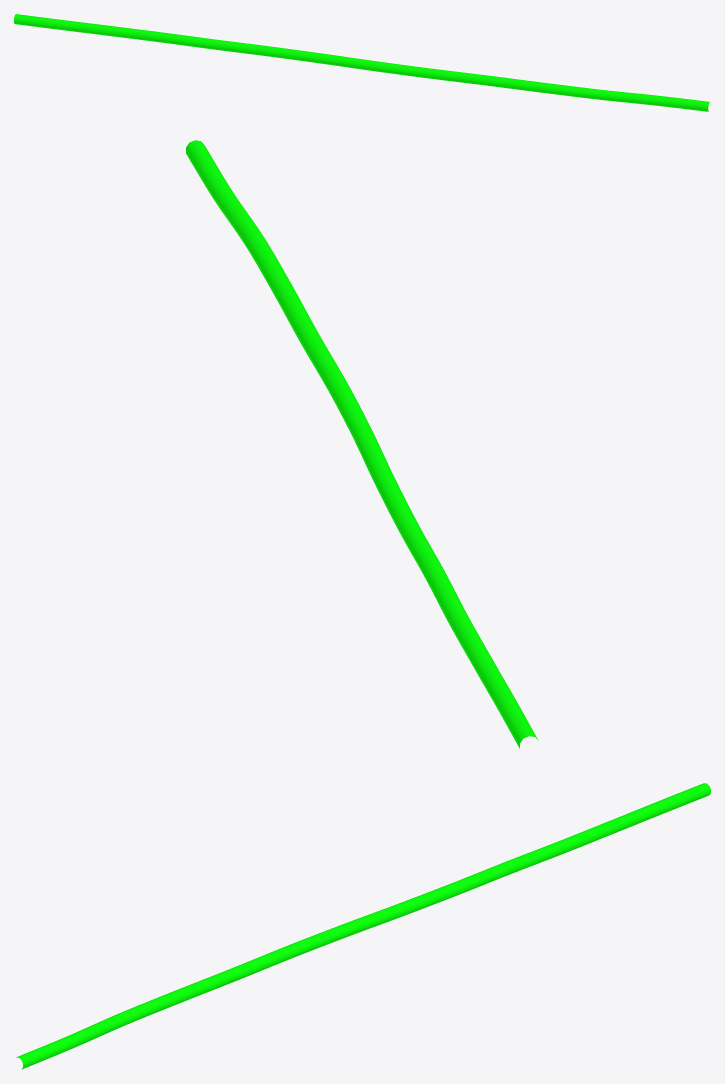
3 renders of one model, top to bottom at view 1: azimuth 30°, elevation 25°; view 2: azimuth 150°, elevation 25°; view 3: azimuth 270°, elevation 25°, orthographic. The views are drawn at different scales.
Size of the model in its own units: 78.15 by 1.6 by 82.73.
